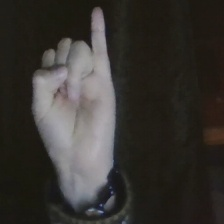I: (21, 1, 126, 160)
